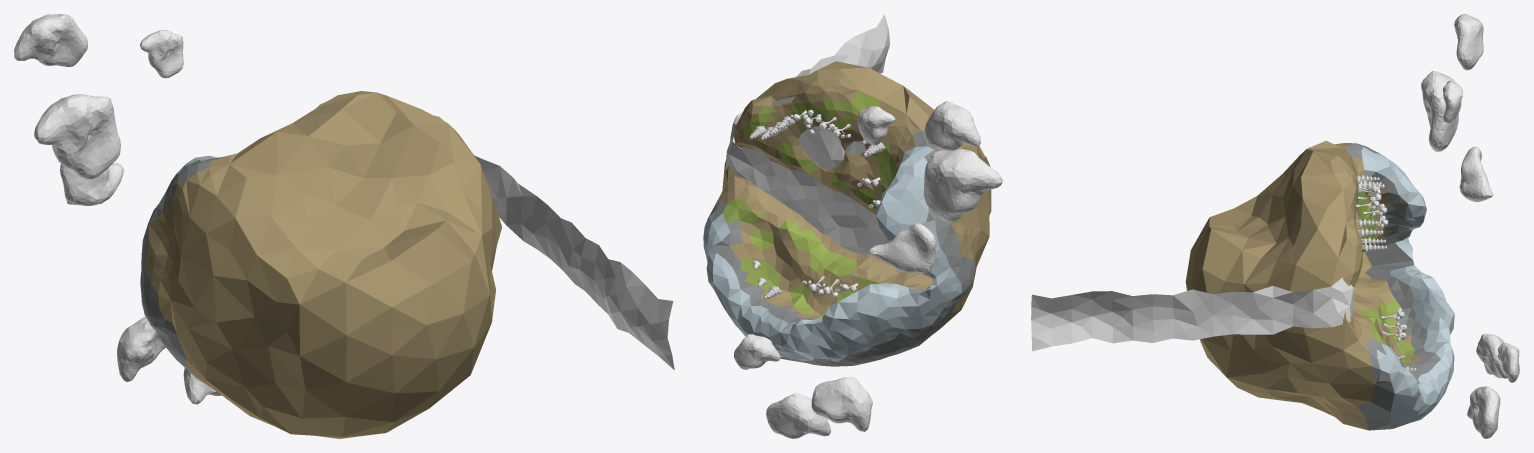
File: island3.dae
3 renders of one model, left to right at view 1: azimuth 30°, elevation 25°; view 2: azimuth 150°, elevation 25°; view 3: azimuth 270°, elevation 25°, orthographic. The views are drawn at different scales.
Visible parts, largest first — view 1: base_world, cloude_set_001, water_mesh; view 2: base_world, cloude_set_001, water_mesh; view 3: base_world, water_mesh, cloude_set_001.
Part boxes in pixels (<box>): base_world: <box>140,91,501,438</box>; cloude_set_001: <box>14,14,221,404</box>; water_mesh: <box>474,155,674,369</box>; base_world: <box>703,61,991,366</box>; cloude_set_001: <box>734,101,1002,438</box>; water_mesh: <box>725,14,935,278</box>; base_world: <box>1185,140,1454,430</box>; water_mesh: <box>1031,208,1353,351</box>; cloude_set_001: <box>1421,14,1519,438</box>.
Size of the model in its own units: 5.07 by 6.83 by 5.33.
